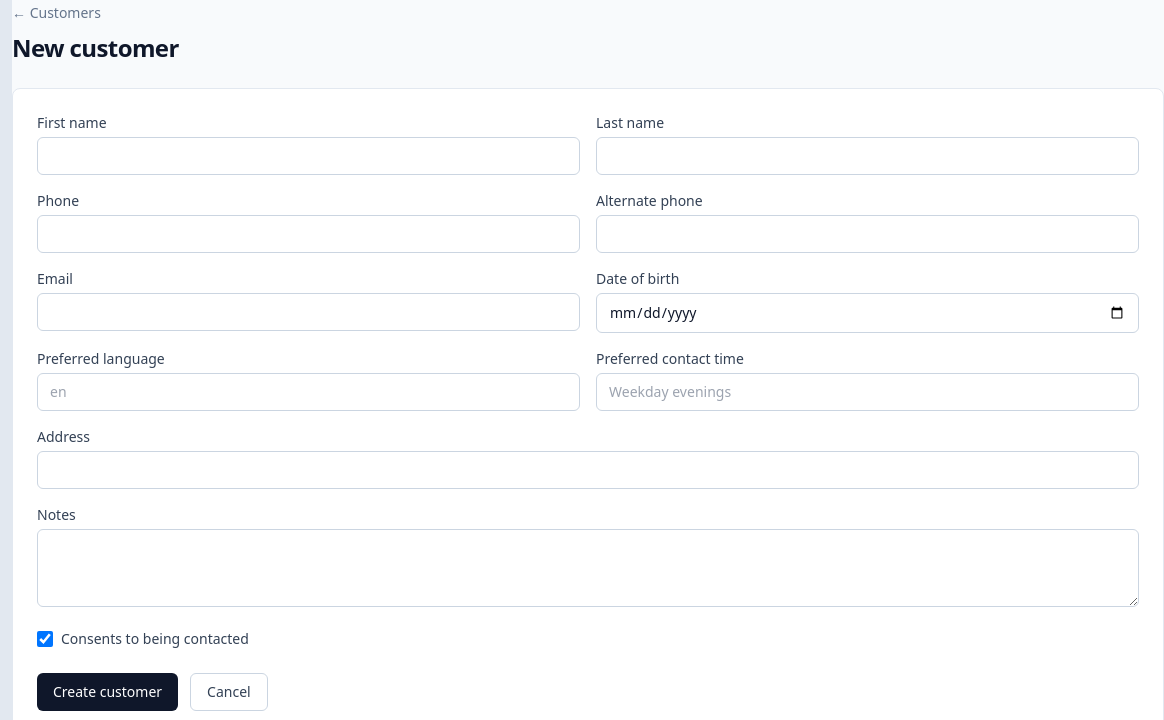
creating a customer › shows what the API objected to and stays on the form
In the field labelled "First name": (308, 156) [37,137,580,175], type "Meera"
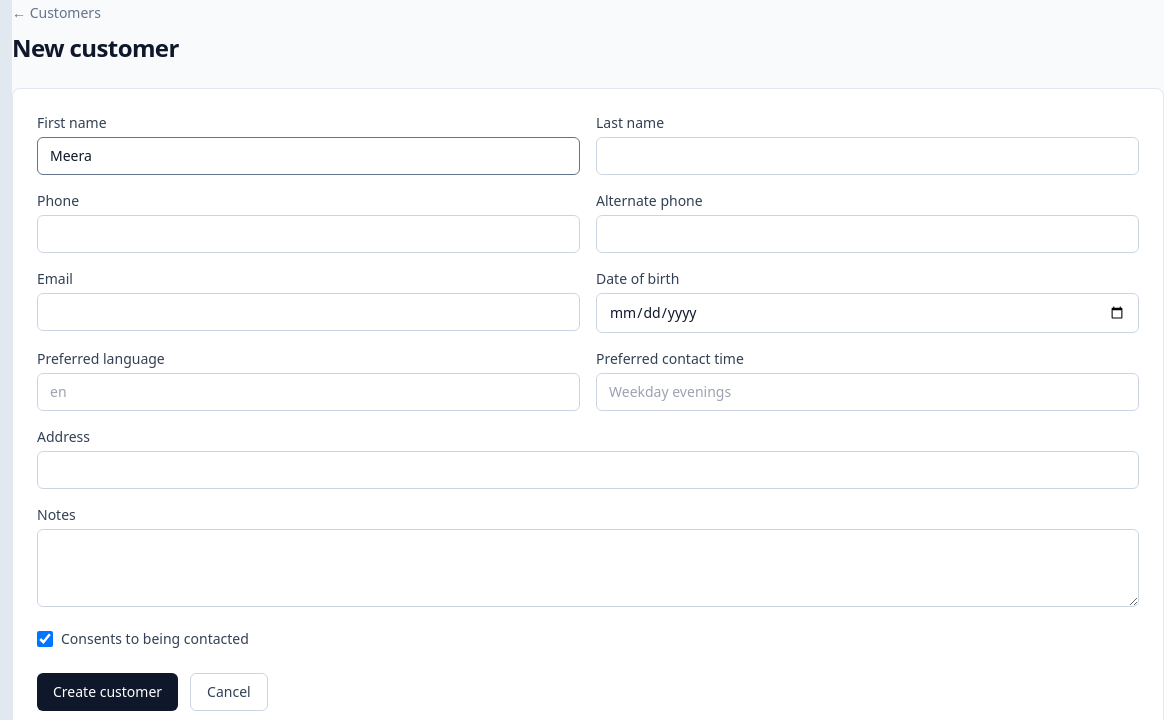
In the field labelled "Last name": (868, 156) [596,137,1139,175], type "Nair"
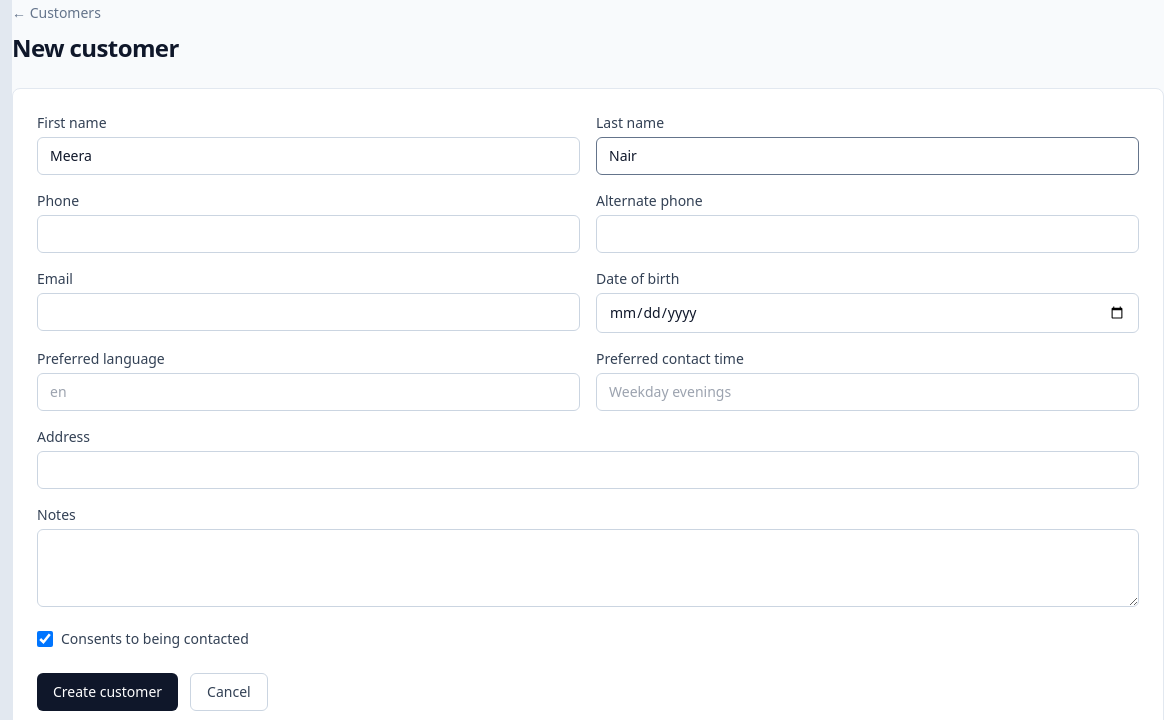
In the field labelled "Phone": (308, 234) [37,215,580,253], type "+919876500011"
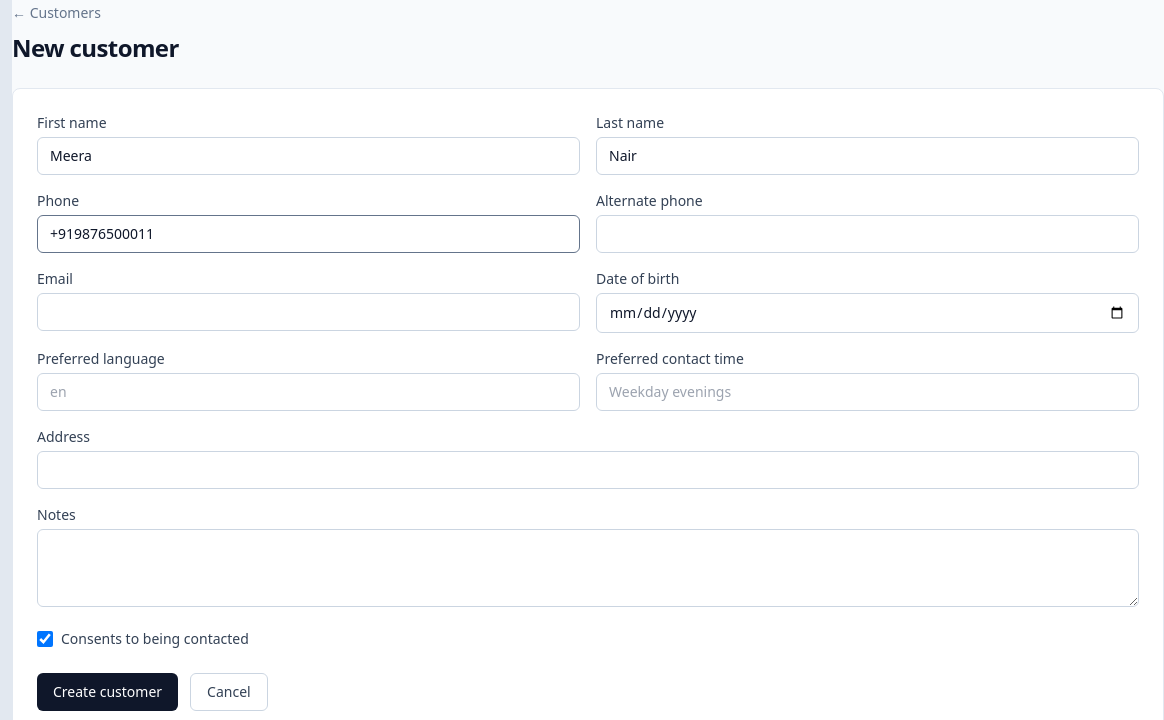
Click the button "Create customer": (108, 692) [37,673,178,711]
(page scrolled)
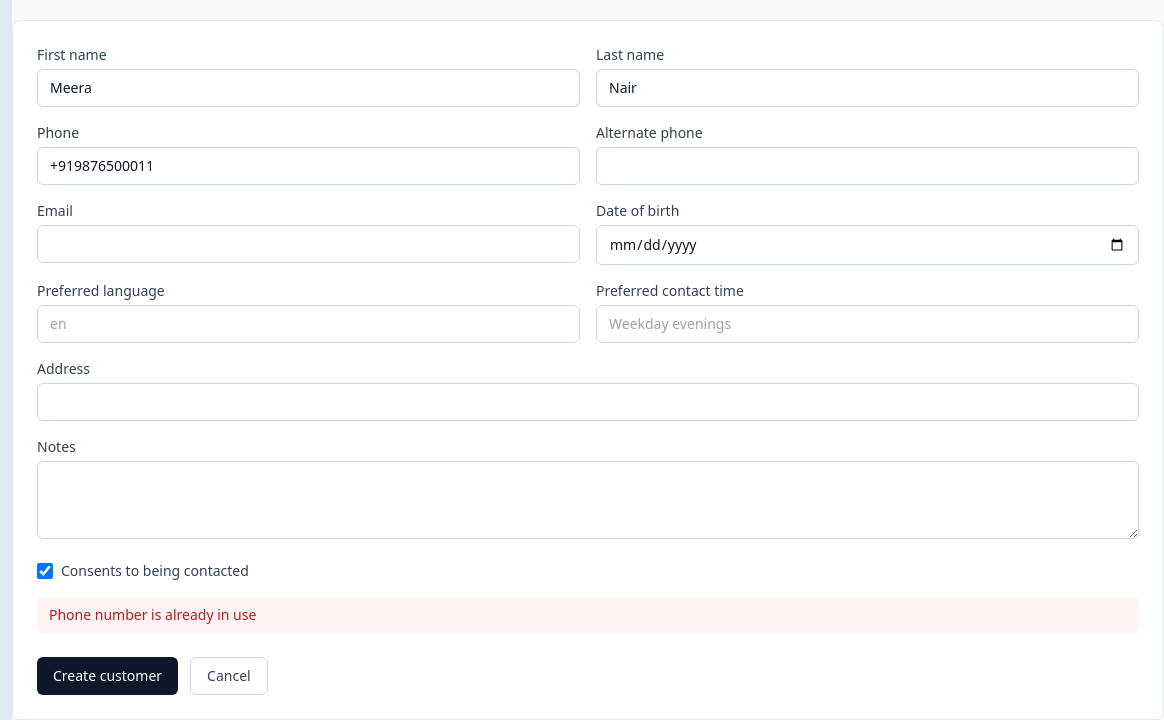
Expected: the button "Create customer" is enabled, [37,657,178,695]
Expected: the message reads "Phone number is already in use", [49,605,256,624]
